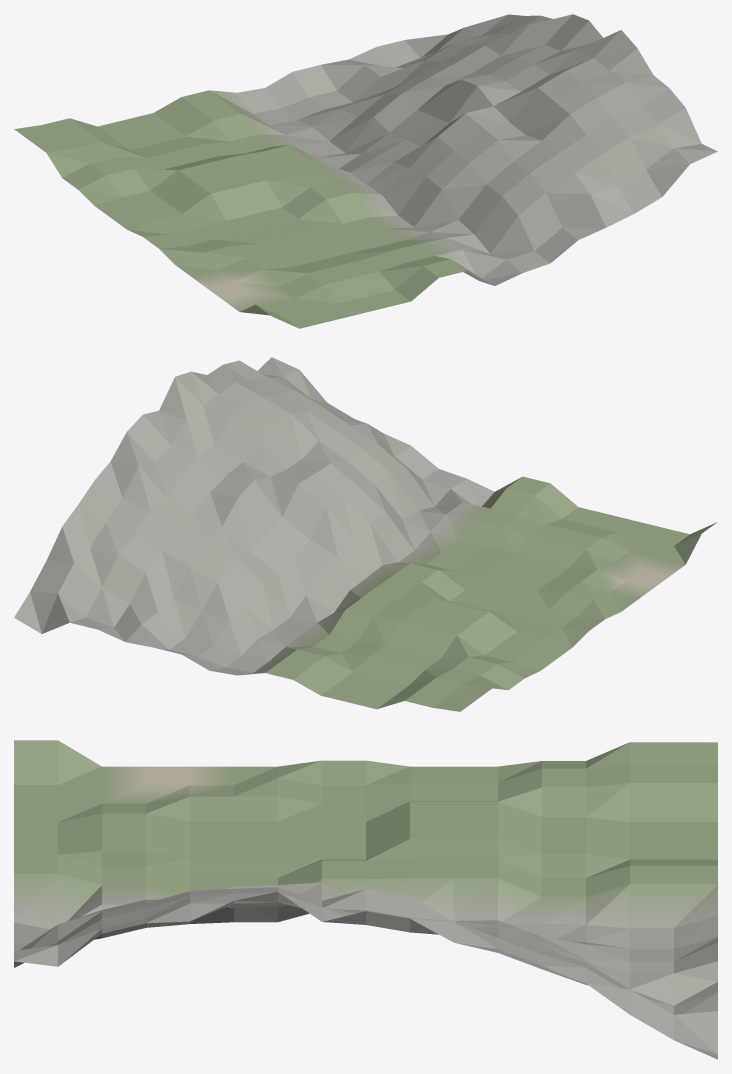
The picture shows the model from 3 angles, top to bottom: view 1: azimuth 30°, elevation 25°; view 2: azimuth 150°, elevation 25°; view 3: azimuth 270°, elevation 25°; orthographic projection. The views are drawn at different scales.
Bounding box in the file's own units: 32 × 9.43 × 32.
